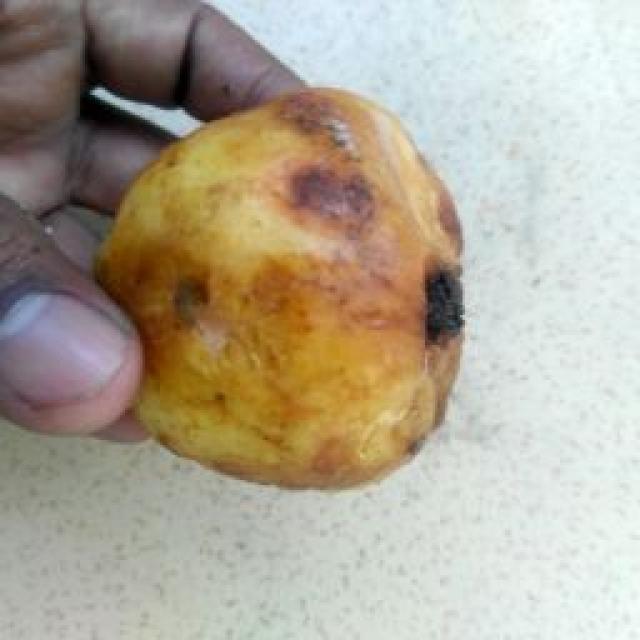Organik: (105, 90, 511, 512)
